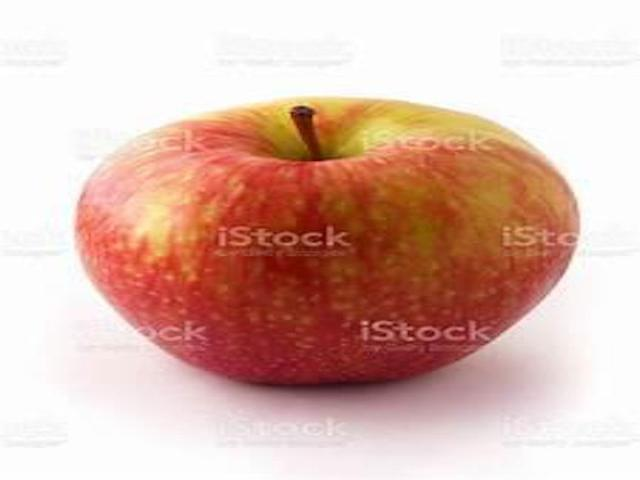apple: (66, 85, 586, 394)
